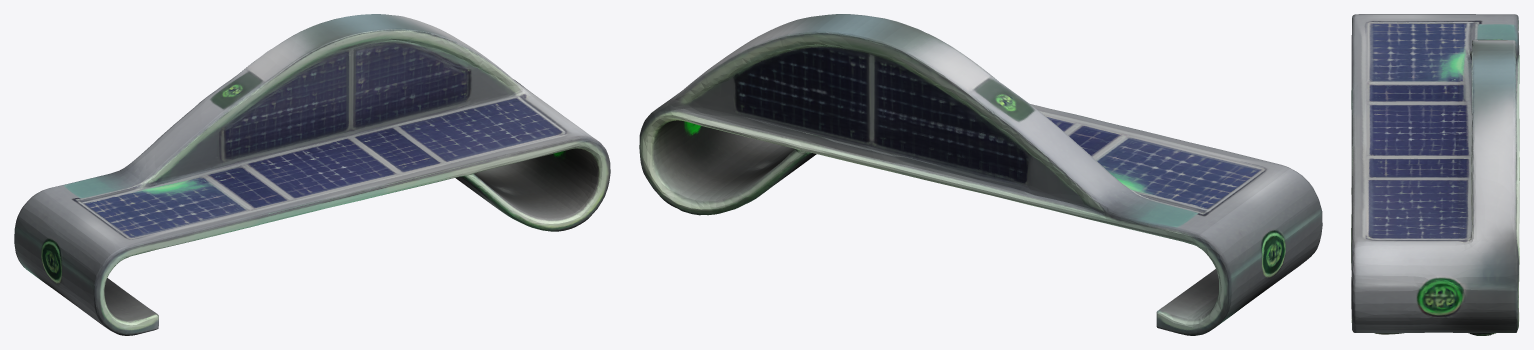
File: bridge.glb
The picture shows the model from 3 angles, left to right: view 1: azimuth 30°, elevation 25°; view 2: azimuth 150°, elevation 25°; view 3: azimuth 270°, elevation 25°; orthographic projection. The views are drawn at different scales.
Parts seen in each view (by area): view 1: world; view 2: world; view 3: world.
Part boxes in pixels (x1=…): world: x1=14, y1=14, x2=610, y2=335; world: x1=639, y1=14, x2=1322, y2=335; world: x1=1351, y1=14, x2=1519, y2=335.
Bounding box in the file's own units: 1 × 0.3617 × 0.2781.
Materials: 1 (1 with a texture image).
